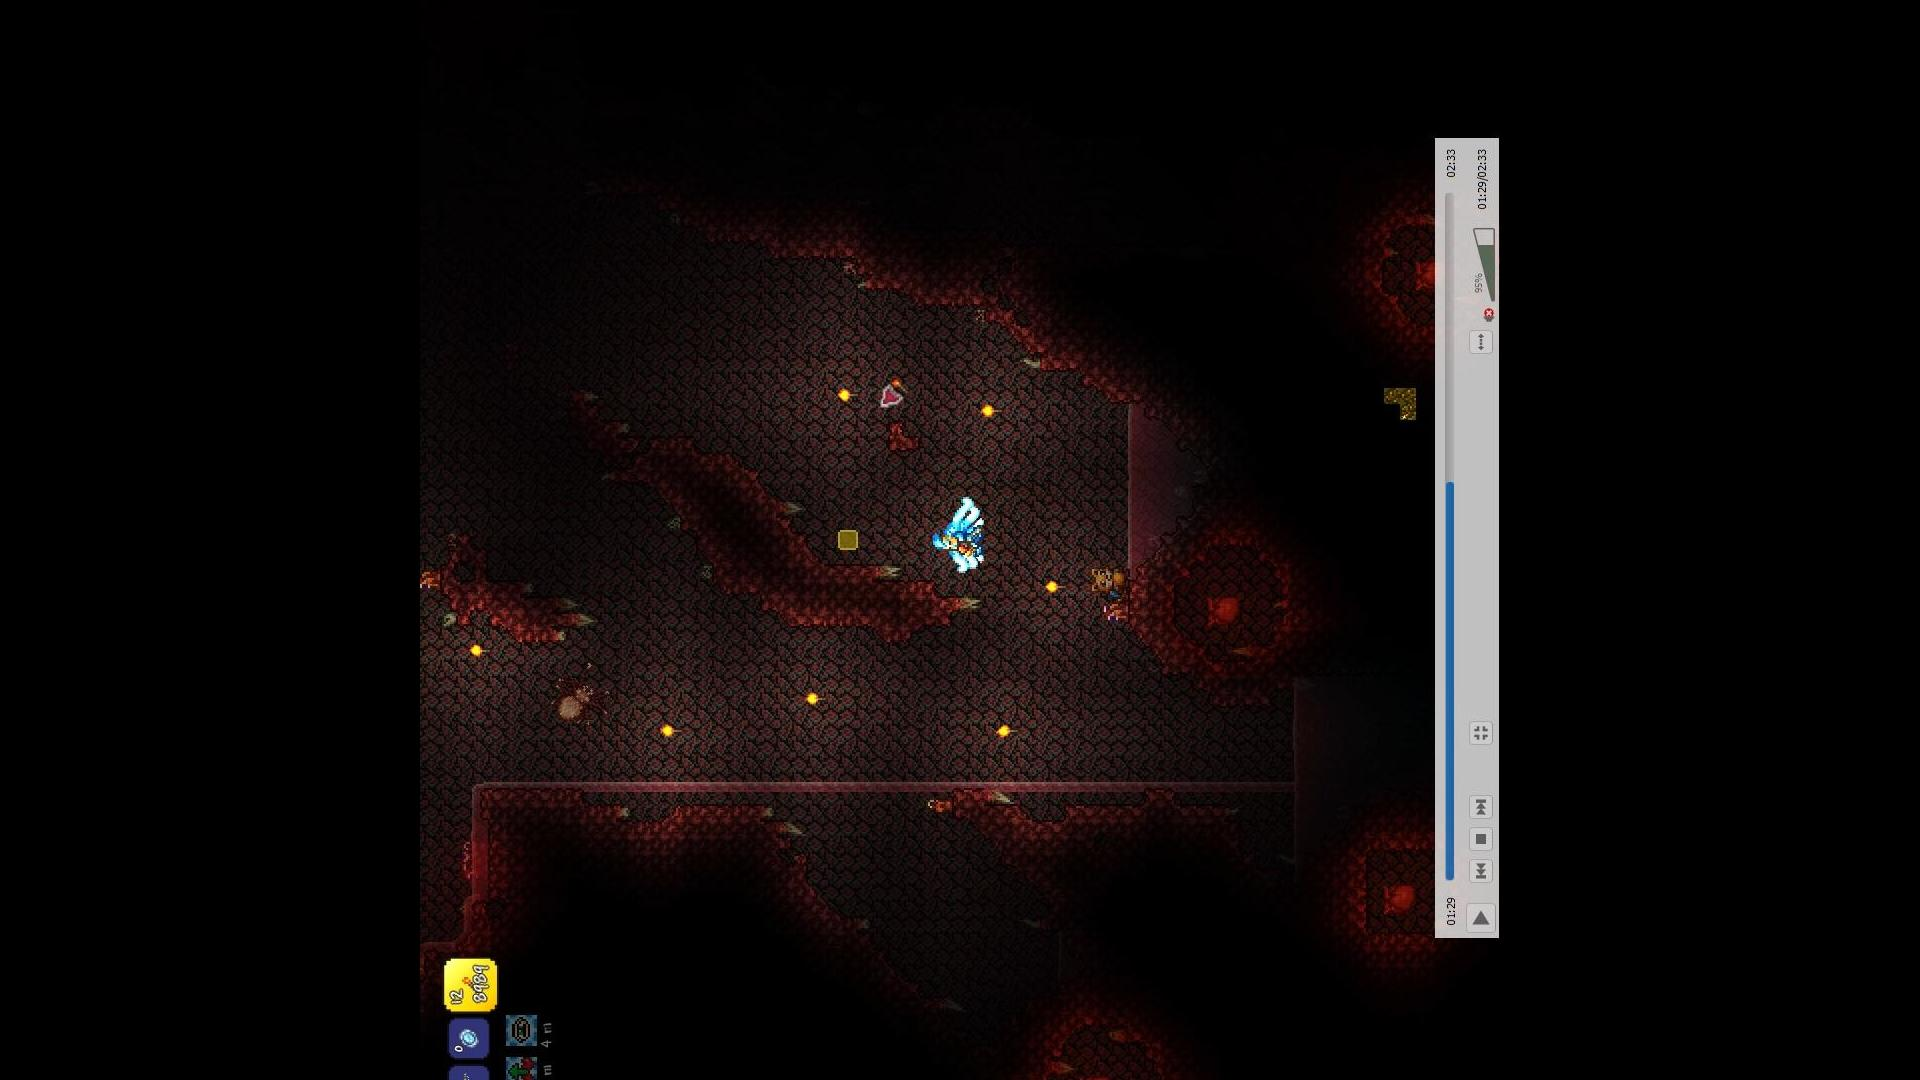spider: (545, 657, 618, 731)
